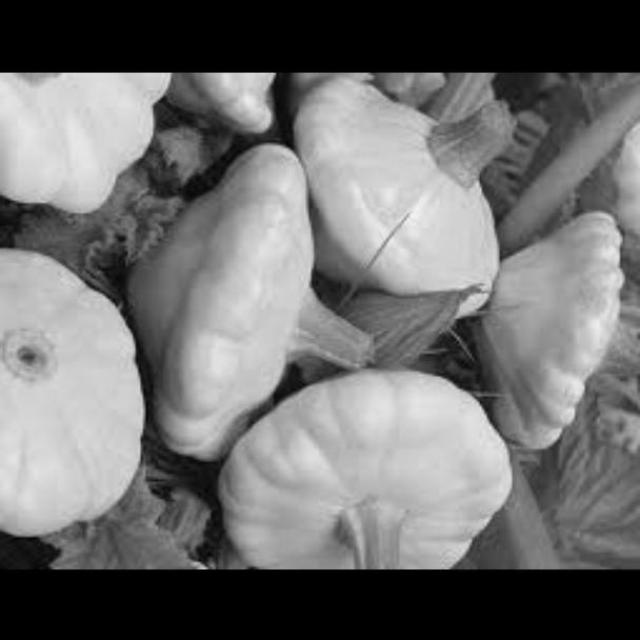bi dao: (126, 138, 333, 476), (210, 373, 521, 570), (284, 73, 512, 319), (1, 238, 153, 540), (485, 225, 639, 466), (1, 74, 188, 214), (175, 73, 307, 150)
